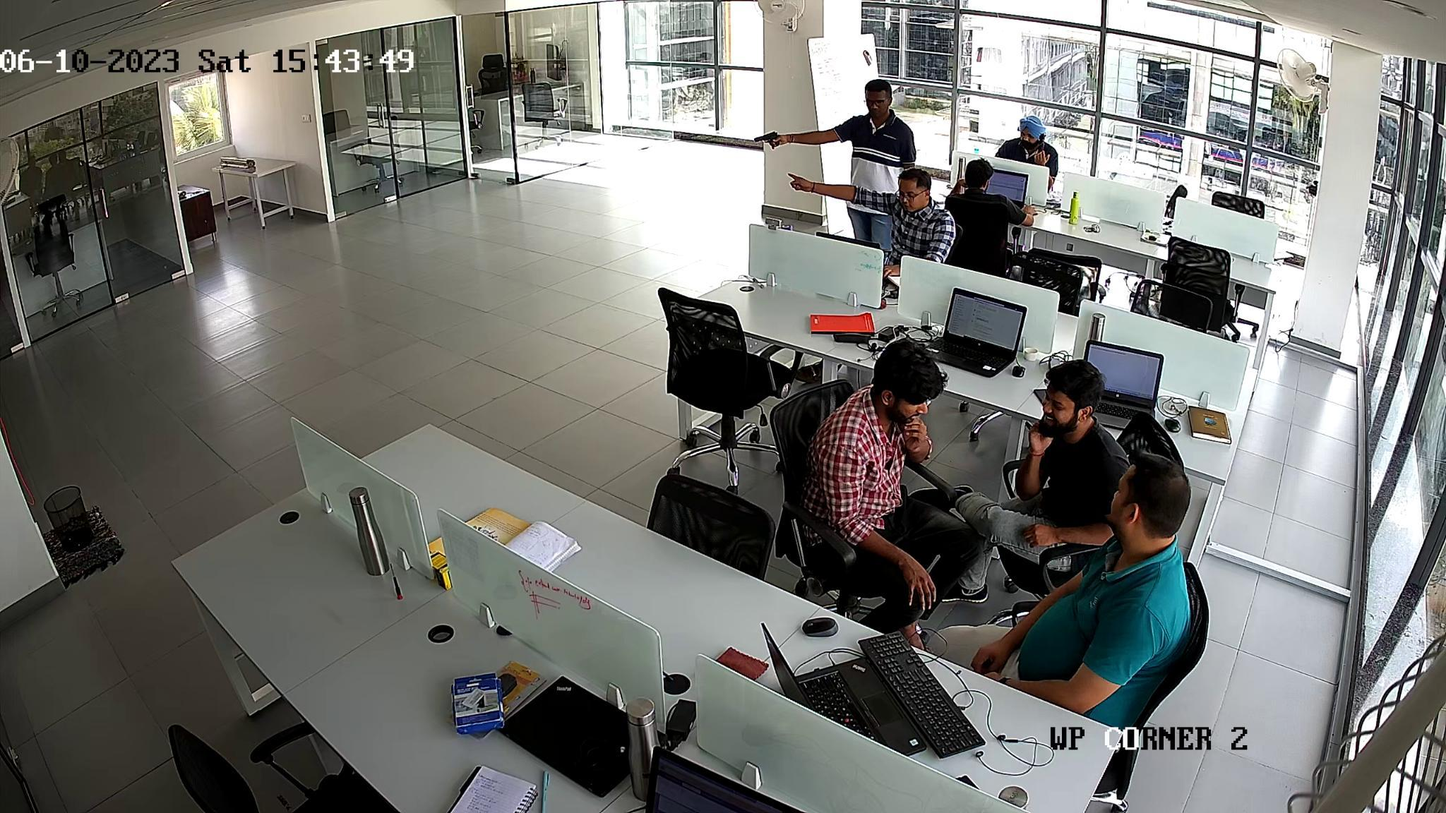gun: (754, 132, 779, 149)
